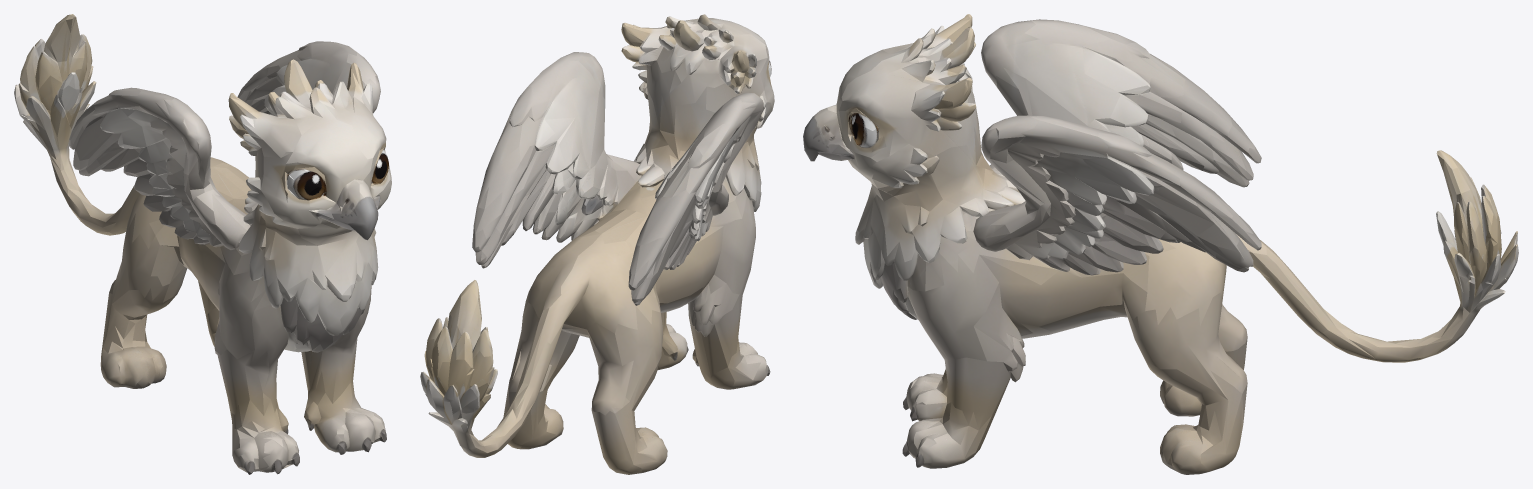
3 views of the same model, side by side, from view 1: azimuth 30°, elevation 25°; view 2: azimuth 150°, elevation 25°; view 3: azimuth 270°, elevation 25° (orthographic). The views are drawn at different scales.
Bounding box in the file's own units: 0.7038 × 1.19 × 1.9.
Materials: 1 (1 with a texture image).
